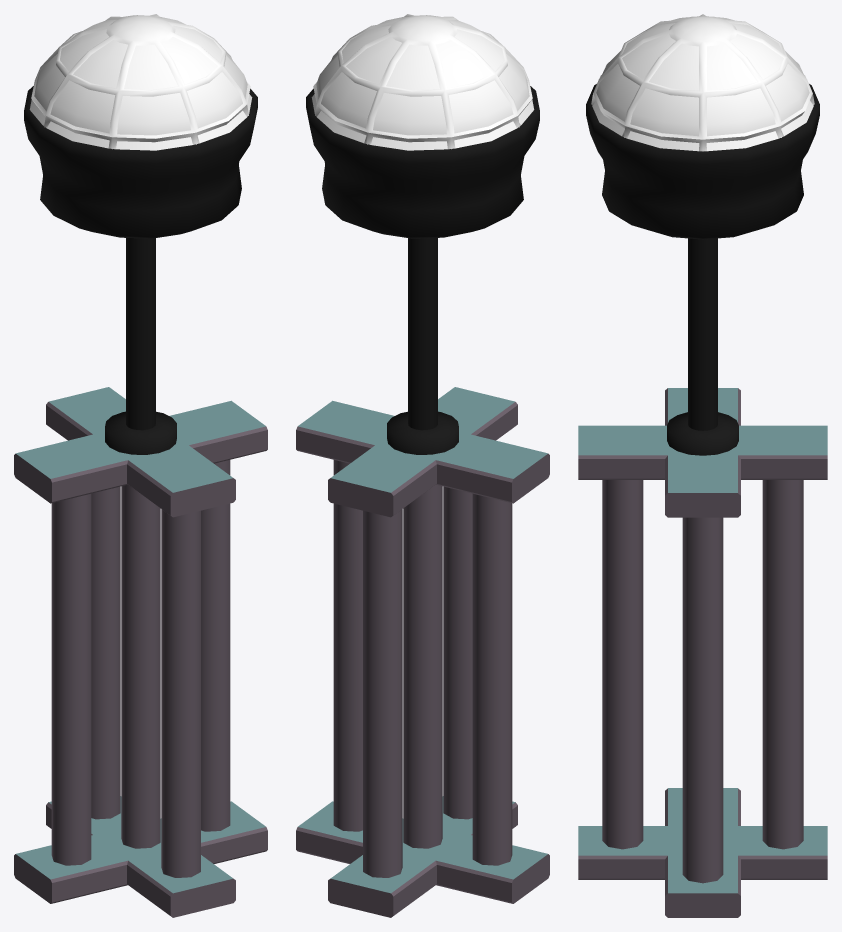
Rendered from GB_144_railing_lamp_var01.glb.
3 views of the same model, side by side, from view 1: azimuth 30°, elevation 25°; view 2: azimuth 150°, elevation 25°; view 3: azimuth 270°, elevation 25° (orthographic).
Visible parts, largest first — view 1: RailingLamp.001, Sphere.003, Sphere.002; view 2: RailingLamp.001, Sphere.003, Sphere.002; view 3: RailingLamp.001, Sphere.003, Sphere.002.
Part boxes in pixels (x1,y1,x2,y2): RailingLamp.001: (14,387,267,917); Sphere.003: (24,86,257,454); Sphere.002: (29,14,252,150); RailingLamp.001: (296,387,549,917); Sphere.003: (306,86,539,454); Sphere.002: (311,14,534,150); RailingLamp.001: (578,388,827,917); Sphere.003: (586,84,819,455); Sphere.002: (591,14,814,151).
Size of the model in its own units: 0.752 by 2.81 by 0.752.
